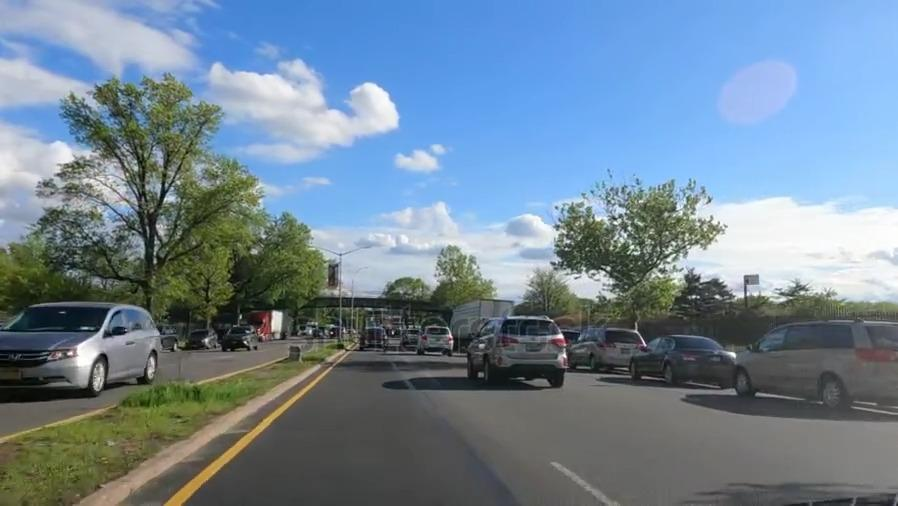car: (0, 299, 165, 396), (738, 322, 896, 412), (469, 321, 567, 380), (645, 331, 732, 392), (574, 326, 641, 376), (416, 323, 455, 356), (227, 322, 259, 353), (362, 327, 386, 350), (188, 328, 217, 346)
wheel: (818, 372, 847, 414), (89, 352, 107, 399), (141, 350, 159, 383), (735, 369, 751, 398)
